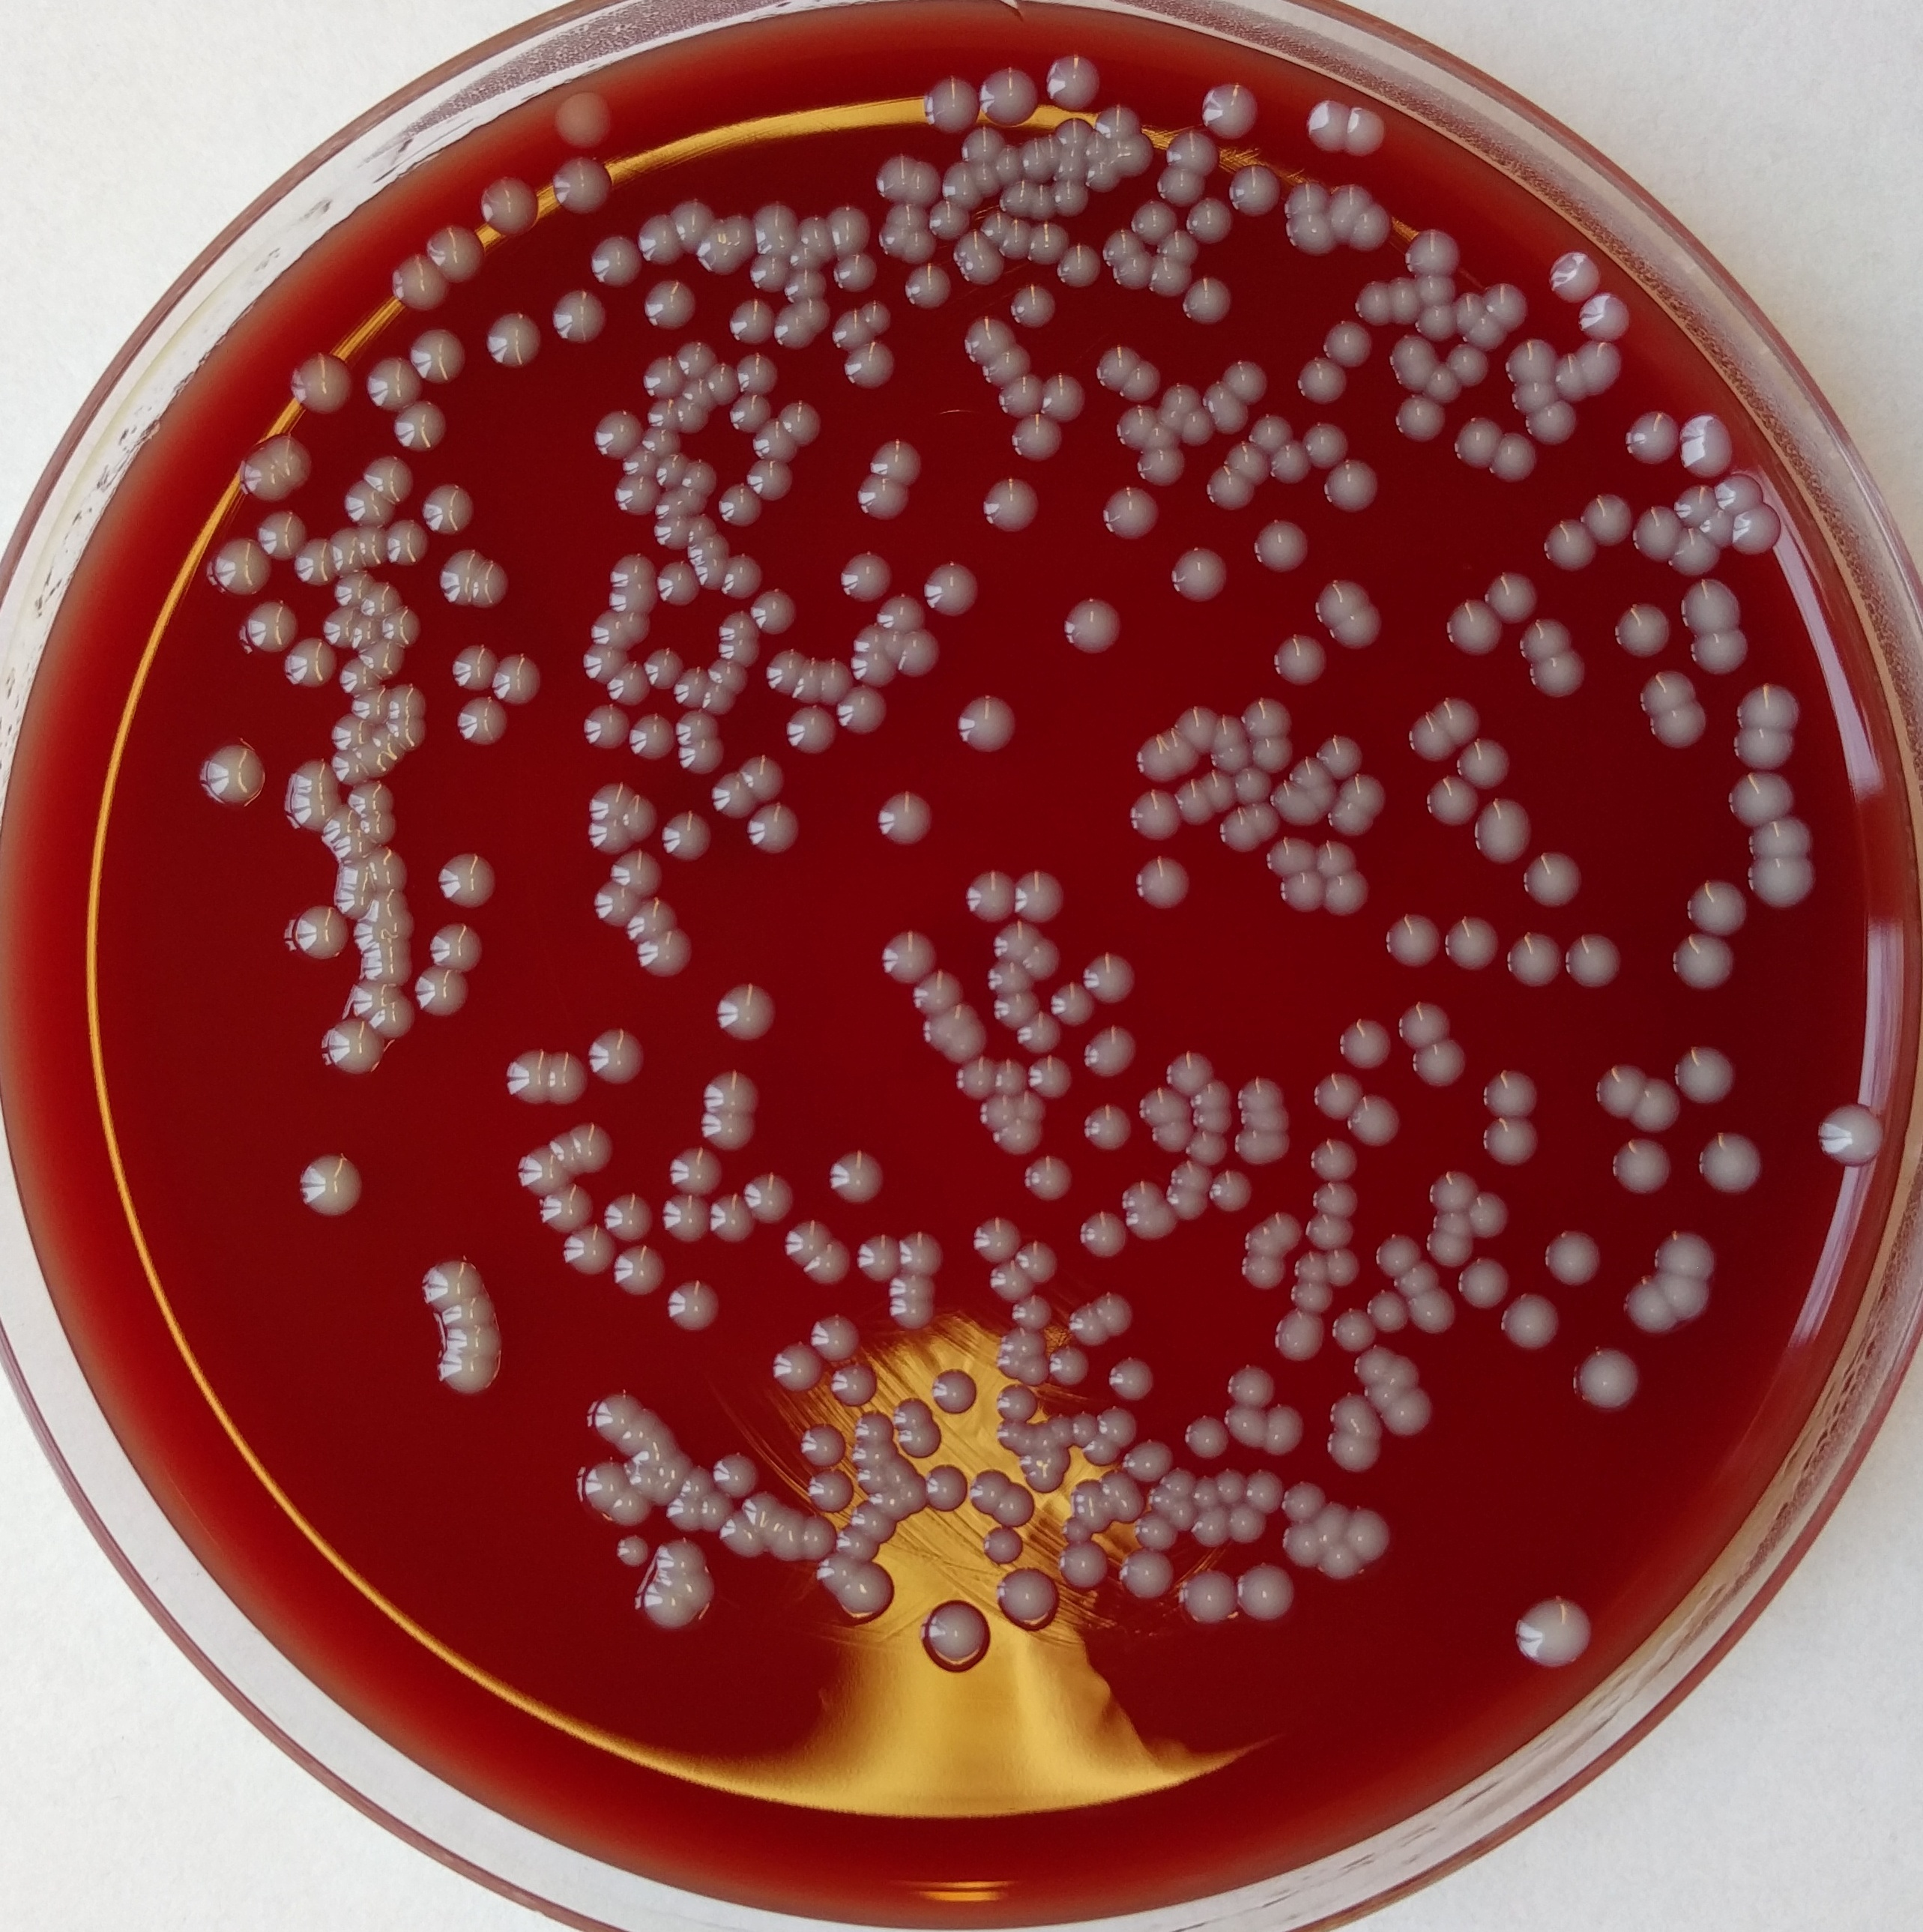sp22: (1507, 1590, 1595, 1675), (291, 1148, 379, 1228), (917, 1597, 998, 1675), (195, 740, 273, 815), (1576, 1338, 1643, 1421), (1465, 796, 1541, 868), (285, 345, 357, 421), (1197, 76, 1270, 150), (1694, 1129, 1768, 1198), (285, 900, 359, 969), (475, 176, 546, 247), (382, 248, 449, 322), (1745, 854, 1824, 916), (1724, 770, 1805, 830), (1819, 1104, 1890, 1173), (1668, 1039, 1742, 1104), (1731, 675, 1807, 738), (416, 222, 493, 284), (1166, 544, 1238, 609), (954, 692, 1027, 757), (1055, 594, 1122, 662), (409, 960, 479, 1025), (549, 153, 620, 218), (201, 537, 276, 597), (713, 981, 778, 1050), (229, 446, 298, 511), (836, 1557, 900, 1627), (997, 1566, 1064, 1631), (365, 354, 431, 419), (976, 63, 1039, 132), (548, 285, 616, 349), (1731, 722, 1801, 784), (1495, 1287, 1566, 1349), (974, 477, 1046, 537), (320, 1016, 393, 1076), (1678, 572, 1742, 639), (481, 308, 544, 375), (1233, 1560, 1301, 1622), (921, 557, 990, 618), (549, 88, 618, 150), (431, 851, 502, 911), (435, 1344, 507, 1402), (1516, 845, 1581, 909), (581, 1027, 650, 1087), (1562, 930, 1625, 993), (412, 1259, 493, 1309), (1606, 1136, 1675, 1194), (1243, 518, 1314, 574), (917, 76, 983, 136), (1585, 1058, 1650, 1118), (875, 785, 935, 851), (1675, 410, 1733, 477), (1671, 928, 1738, 986), (409, 326, 475, 384), (1527, 650, 1597, 704), (1682, 881, 1752, 935), (1745, 815, 1823, 865), (833, 546, 895, 608), (1504, 928, 1564, 992), (1340, 1092, 1404, 1152), (662, 1279, 726, 1338), (947, 229, 1013, 287), (1099, 486, 1164, 544), (1629, 504, 1687, 569), (1268, 629, 1333, 687), (1442, 909, 1500, 974), (1624, 1073, 1682, 1138), (1481, 1111, 1546, 1169), (1537, 1228, 1602, 1286), (639, 277, 706, 333), (1537, 516, 1604, 572), (1449, 738, 1518, 793), (1652, 1228, 1722, 1280), (1611, 601, 1671, 662), (1115, 1543, 1176, 1603), (585, 234, 645, 296), (1622, 407, 1680, 470), (1483, 569, 1546, 627), (854, 470, 917, 528), (257, 430, 320, 488), (1386, 333, 1442, 398), (1078, 1027, 1143, 1083), (1574, 333, 1629, 400), (417, 483, 484, 537), (1178, 1567, 1238, 1627), (1020, 1150, 1079, 1210), (1044, 51, 1102, 113), (389, 398, 451, 456), (1444, 407, 1500, 470), (535, 1180, 599, 1236), (836, 338, 902, 393), (1319, 458, 1384, 512), (1377, 912, 1442, 967), (453, 696, 518, 750), (960, 313, 1027, 366), (1477, 1069, 1544, 1122), (504, 1046, 556, 1113), (630, 930, 697, 983), (1407, 1039, 1476, 1090), (1622, 1279, 1682, 1337), (1456, 1254, 1514, 1314), (826, 1148, 886, 1206), (877, 926, 935, 986), (282, 632, 342, 690), (1229, 159, 1284, 222), (1518, 395, 1581, 449), (1446, 601, 1509, 655), (1333, 1018, 1396, 1073), (1013, 865, 1067, 928), (588, 409, 652, 463), (1308, 579, 1377, 629), (1421, 771, 1479, 830), (770, 1338, 828, 1397), (771, 396, 829, 454), (1131, 852, 1190, 909), (1652, 1266, 1712, 1323), (657, 808, 713, 868), (1389, 391, 1451, 446), (609, 1242, 671, 1296), (1324, 181, 1372, 252), (1631, 666, 1701, 713), (1375, 1386, 1440, 1437), (1323, 1388, 1388, 1439), (424, 923, 490, 974), (340, 483, 407, 532), (243, 597, 301, 653), (254, 505, 310, 564), (1300, 97, 1354, 157), (780, 703, 840, 757), (870, 592, 930, 646), (634, 211, 689, 271), (1514, 613, 1576, 666), (1694, 625, 1756, 678), (1324, 1425, 1386, 1478), (1393, 1000, 1458, 1050), (1296, 352, 1352, 409), (1583, 491, 1639, 548), (1402, 712, 1458, 768), (960, 865, 1016, 921), (833, 685, 889, 741), (694, 220, 748, 278), (1576, 287, 1634, 342), (1035, 370, 1090, 428), (1127, 791, 1185, 845), (1055, 1539, 1113, 1594), (745, 800, 799, 858), (706, 768, 761, 826), (490, 652, 548, 706), (866, 435, 925, 490), (824, 201, 877, 261), (1087, 340, 1146, 393), (600, 1191, 660, 1243), (917, 997, 977, 1050), (608, 847, 667, 900), (1178, 195, 1240, 247), (1344, 1504, 1395, 1566), (541, 1044, 592, 1106), (1419, 1166, 1485, 1213), (1205, 460, 1259, 516), (1731, 504, 1787, 558), (909, 962, 963, 1018), (449, 643, 504, 699), (1550, 245, 1602, 303), (1502, 333, 1560, 386), (1307, 1071, 1365, 1124), (715, 1508, 768, 1566), (560, 1222, 618, 1275), (588, 882, 646, 935), (437, 548, 483, 615), (1314, 731, 1374, 782), (516, 1150, 576, 1201), (1178, 273, 1233, 328), (740, 752, 794, 807), (1645, 704, 1715, 747), (711, 1449, 768, 1502), (745, 586, 801, 639), (1007, 412, 1065, 463), (662, 1185, 713, 1243), (365, 453, 423, 504), (1219, 1404, 1278, 1453), (701, 1067, 761, 1117), (743, 456, 803, 505), (1328, 609, 1395, 653), (1234, 694, 1296, 741), (1268, 780, 1330, 828), (1099, 1464, 1146, 1525), (1321, 317, 1375, 370), (1432, 692, 1485, 747), (1273, 1309, 1328, 1361), (810, 1310, 863, 1365), (741, 1171, 796, 1224), (1079, 949, 1132, 1004), (750, 203, 801, 259), (1488, 428, 1539, 484), (1076, 1208, 1132, 1259), (1106, 1356, 1162, 1407), (1275, 1516, 1326, 1573), (801, 1236, 858, 1287), (1009, 1007, 1065, 1058), (627, 708, 678, 764), (291, 534, 342, 590), (1164, 125, 1222, 174), (1046, 238, 1104, 287), (1404, 227, 1462, 277), (1113, 359, 1171, 409), (567, 1118, 616, 1176), (1370, 1233, 1430, 1280), (993, 1111, 1053, 1159), (287, 789, 347, 837), (461, 551, 509, 611), (713, 483, 773, 530), (990, 377, 1051, 423), (1300, 421, 1352, 474), (1153, 724, 1206, 777), (805, 1464, 858, 1516), (940, 1016, 993, 1069), (900, 261, 954, 312), (1175, 706, 1229, 757), (1319, 870, 1374, 921), (1079, 1101, 1134, 1152), (967, 1215, 1021, 1266), (896, 1228, 947, 1282), (856, 1229, 907, 1284), (667, 1145, 722, 1196), (583, 699, 634, 754), (748, 412, 799, 467), (1203, 380, 1252, 437), (699, 1104, 755, 1154), (1342, 100, 1389, 159), (622, 895, 680, 942), (345, 777, 405, 822), (1120, 1205, 1187, 1245), (1087, 1287, 1138, 1340), (988, 919, 1041, 970), (600, 659, 652, 712), (1125, 197, 1180, 247), (1669, 525, 1724, 574), (1305, 1136, 1359, 1185), (923, 1460, 972, 1515), (1004, 284, 1060, 331), (1160, 1050, 1217, 1097), (287, 756, 343, 803), (585, 1393, 643, 1439), (951, 1046, 997, 1104), (770, 301, 821, 352), (780, 1217, 831, 1268), (375, 606, 426, 657), (380, 518, 431, 569), (726, 299, 778, 349), (1277, 865, 1330, 914), (1361, 1287, 1414, 1337), (1180, 1412, 1233, 1462), (1072, 1476, 1115, 1537), (796, 1421, 849, 1471), (930, 1361, 979, 1414), (609, 1407, 662, 1456), (708, 1192, 757, 1245), (636, 356, 689, 405), (1157, 160, 1212, 208), (1483, 278, 1530, 333), (579, 638, 634, 685), (645, 1585, 699, 1633), (437, 1293, 504, 1331), (438, 1319, 505, 1358), (925, 195, 981, 241), (1335, 770, 1391, 815), (1323, 793, 1379, 838), (1386, 1261, 1449, 1302), (669, 201, 713, 259), (1263, 833, 1321, 877), (1263, 1404, 1307, 1462), (1236, 1127, 1296, 1169), (1132, 731, 1182, 782), (1213, 805, 1263, 856), (1404, 1286, 1455, 1335), (1282, 210, 1335, 257), (1205, 1166, 1257, 1213), (653, 560, 706, 608), (1506, 370, 1560, 416), (1712, 470, 1766, 516), (1102, 132, 1159, 176), (1550, 347, 1592, 405), (583, 780, 641, 822), (1224, 437, 1273, 486), (831, 1360, 880, 1409), (849, 1497, 900, 1545), (1027, 1050, 1074, 1101), (1222, 358, 1268, 410), (1226, 1361, 1278, 1407), (991, 1476, 1037, 1529), (368, 993, 421, 1039), (685, 532, 738, 578), (981, 345, 1035, 389), (953, 125, 1014, 164), (1136, 1087, 1192, 1129), (983, 958, 1039, 1000), (322, 523, 365, 579), (620, 791, 660, 849), (347, 976, 405, 1016), (965, 155, 1014, 203), (872, 153, 921, 201), (1249, 729, 1298, 777), (1467, 1191, 1514, 1240), (1065, 1303, 1115, 1351), (1048, 1342, 1097, 1390), (815, 1546, 865, 1594), (363, 844, 410, 893), (726, 389, 775, 437), (673, 338, 720, 387), (347, 523, 396, 571), (940, 160, 986, 211), (1381, 277, 1426, 328), (1178, 403, 1224, 454), (1194, 764, 1240, 815), (1308, 1499, 1354, 1550), (1671, 483, 1724, 527), (761, 646, 805, 699), (1138, 446, 1192, 488), (315, 604, 370, 646), (1249, 410, 1296, 458), (1328, 1307, 1375, 1354), (579, 1462, 627, 1509), (615, 470, 662, 518), (733, 350, 780, 398), (1153, 227, 1203, 273), (1148, 250, 1194, 299), (829, 306, 879, 352), (1241, 1219, 1291, 1265), (1014, 1240, 1064, 1286), (986, 1259, 1035, 1305), (1446, 338, 1490, 389), (1308, 837, 1359, 881), (659, 1569, 718, 1606), (1455, 291, 1495, 345), (1303, 1212, 1358, 1252), (889, 1266, 944, 1307), (1354, 197, 1393, 254), (1109, 250, 1157, 296), (1169, 780, 1217, 826), (1430, 1198, 1476, 1245), (1125, 1439, 1173, 1485), (977, 1523, 1025, 1569), (734, 1486, 780, 1534), (359, 636, 407, 682), (720, 551, 766, 599), (745, 254, 794, 298), (1229, 764, 1273, 814), (1240, 1252, 1289, 1296), (1094, 1400, 1138, 1449), (1046, 983, 1095, 1027), (1092, 100, 1143, 143), (798, 1511, 840, 1562), (993, 988, 1044, 1030), (676, 736, 727, 778), (817, 653, 859, 704), (1351, 275, 1391, 328), (1412, 301, 1465, 342), (581, 815, 634, 856), (652, 1536, 706, 1574), (1027, 222, 1072, 268), (1278, 1476, 1324, 1522), (664, 662, 710, 708), (1411, 264, 1458, 308), (1155, 382, 1203, 426), (1419, 363, 1469, 405), (1241, 1465, 1284, 1515), (882, 1296, 939, 1333), (1020, 935, 1062, 984), (588, 608, 630, 657), (701, 361, 743, 410), (1308, 1178, 1359, 1219), (1159, 1182, 1210, 1222), (335, 655, 386, 696), (875, 627, 914, 680), (1111, 405, 1157, 449), (1351, 1340, 1395, 1386), (969, 1469, 1013, 1515), (1006, 1081, 1051, 1125), (641, 646, 687, 690), (382, 680, 426, 726), (988, 143, 1035, 185), (1266, 437, 1308, 484), (1428, 1229, 1476, 1272), (706, 657, 754, 699), (1101, 225, 1150, 266), (905, 159, 946, 208), (1192, 1501, 1233, 1550), (602, 1485, 652, 1525), (328, 710, 377, 750), (1234, 1074, 1287, 1111), (1185, 1080, 1238, 1117), (771, 1508, 801, 1573), (858, 298, 902, 342), (792, 292, 836, 336), (1016, 139, 1058, 185), (1465, 312, 1511, 354), (1236, 801, 1282, 844), (1007, 1291, 1053, 1333), (1185, 1125, 1233, 1166), (1229, 1501, 1270, 1548), (546, 1129, 586, 1176), (902, 629, 942, 676), (1048, 178, 1097, 217), (1284, 181, 1333, 220), (831, 254, 880, 292), (991, 1384, 1041, 1423), (831, 1525, 882, 1562), (1238, 1104, 1294, 1138), (1701, 509, 1743, 553), (1259, 1210, 1303, 1252), (852, 1405, 896, 1448), (333, 569, 375, 613), (1291, 1247, 1337, 1287), (1319, 1539, 1365, 1580), (604, 553, 653, 590), (780, 268, 831, 303), (671, 710, 722, 745), (354, 914, 417, 942), (1326, 1245, 1368, 1287), (1382, 1351, 1425, 1393), (652, 512, 694, 555), (652, 453, 694, 495), (726, 215, 766, 259), (696, 1488, 736, 1532), (359, 576, 403, 616), (796, 213, 835, 259), (1132, 1511, 1178, 1550), (611, 1530, 657, 1569), (342, 615, 387, 653), (1210, 745, 1263, 778), (713, 634, 766, 667), (851, 652, 898, 689), (1286, 754, 1335, 789), (896, 1423, 946, 1458), (900, 225, 942, 266), (1208, 715, 1250, 756), (645, 396, 685, 439), (991, 1053, 1030, 1097), (977, 1087, 1016, 1131), (1000, 217, 1037, 262), (678, 1464, 715, 1509), (1113, 1180, 1166, 1212), (794, 652, 826, 704), (886, 201, 935, 234), (1152, 1117, 1192, 1157), (1363, 1374, 1404, 1414), (680, 458, 720, 498), (694, 555, 733, 597), (357, 808, 402, 845), (641, 424, 685, 461), (673, 393, 710, 437), (1289, 1279, 1335, 1314), (1213, 1464, 1249, 1509), (715, 611, 761, 646), (347, 689, 393, 724), (1134, 417, 1182, 451), (1078, 1432, 1125, 1465), (872, 222, 912, 261), (893, 1393, 933, 1432), (660, 1495, 701, 1534), (680, 375, 718, 416), (1301, 780, 1344, 817), (1187, 1102, 1236, 1134), (1081, 160, 1125, 195), (382, 717, 428, 750), (359, 741, 398, 780), (1000, 181, 1039, 220), (616, 606, 655, 645), (789, 240, 828, 277), (1065, 1411, 1104, 1448), (1185, 1472, 1222, 1511), (699, 680, 738, 717), (331, 748, 370, 785), (1013, 1353, 1053, 1388), (1039, 1412, 1079, 1448), (1157, 1465, 1197, 1501), (1023, 1465, 1071, 1495), (620, 444, 662, 477), (357, 956, 410, 983), (977, 211, 1016, 247), (993, 1414, 1032, 1449), (373, 724, 407, 764), (1034, 130, 1067, 171), (1168, 1159, 1208, 1192), (854, 622, 888, 662), (1053, 116, 1097, 146), (1060, 1513, 1097, 1548), (898, 1474, 930, 1513), (328, 888, 368, 918), (328, 831, 368, 861), (646, 1423, 682, 1456), (1081, 130, 1113, 167), (682, 512, 718, 544), (354, 940, 412, 960), (660, 1451, 694, 1485), (856, 1462, 891, 1493), (365, 891, 409, 916), (886, 1449, 916, 1483), (335, 863, 370, 891), (629, 1460, 655, 1490), (652, 1479, 676, 1506)
